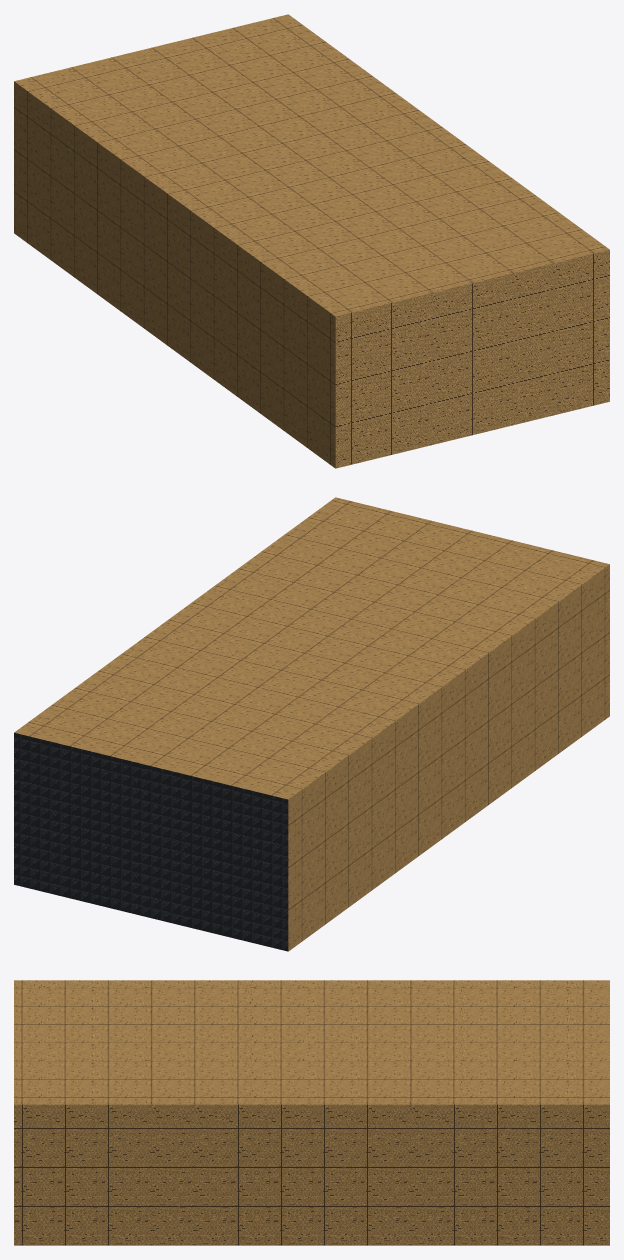
File: tunnel.glb
3 views of the same model, one above another, from view 1: azimuth 30°, elevation 25°; view 2: azimuth 150°, elevation 25°; view 3: azimuth 270°, elevation 25° (orthographic). The views are drawn at different scales.
Parts seen in each view (by area): view 1: osb; view 2: osb, foam; view 3: osb.
Boxes of the visible parts, box(x1,y1,x2,y2) form: osb: box(14, 14, 609, 468); osb: box(14, 497, 609, 951); foam: box(14, 732, 288, 951); osb: box(14, 980, 609, 1245).
Bounding box in the file's own units: 6.8 × 3.61 × 13.8.
14 materials, 14 textured.
